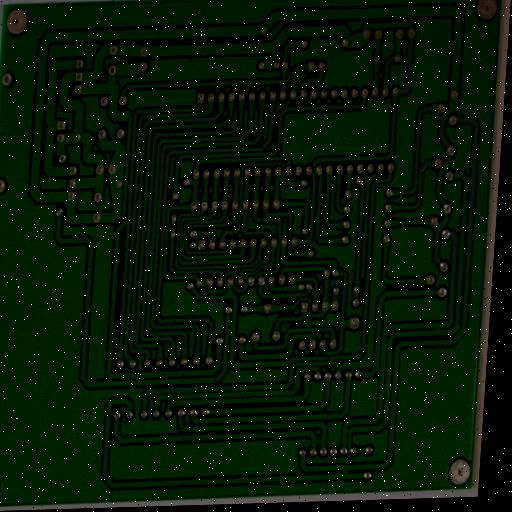short_circuit: (431, 321, 444, 339), (377, 384, 392, 399), (339, 465, 352, 481), (312, 434, 327, 447), (413, 176, 423, 188)
